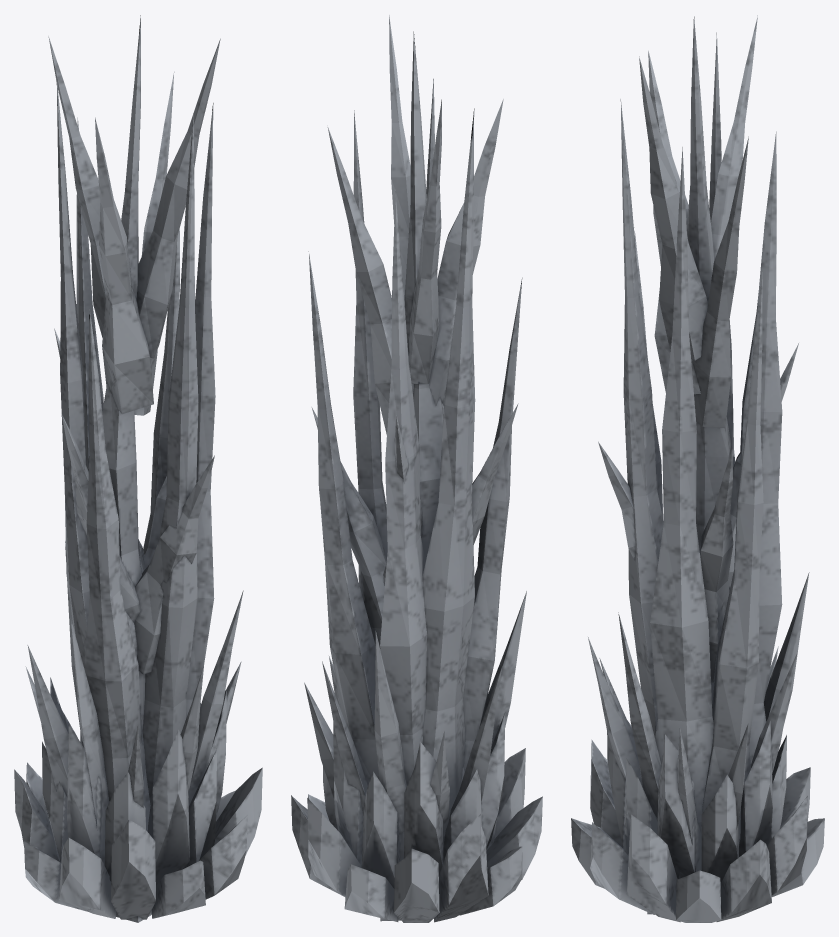
The model's file is ShockwaveSpikeRock.fbx.
3 renders of one model, left to right at view 1: azimuth 30°, elevation 25°; view 2: azimuth 150°, elevation 25°; view 3: azimuth 270°, elevation 25°, orthographic. The views are drawn at different scales.
Parts seen in each view (by area): view 1: ShockwaveSpikeRock; view 2: ShockwaveSpikeRock; view 3: ShockwaveSpikeRock.
Part boxes in pixels (<box>): ShockwaveSpikeRock: <box>14,15,262,922</box>; ShockwaveSpikeRock: <box>291,15,542,922</box>; ShockwaveSpikeRock: <box>571,15,824,922</box>.
Bounding box in the file's own units: 100 × 385 × 100.
1 material, 1 textured.
